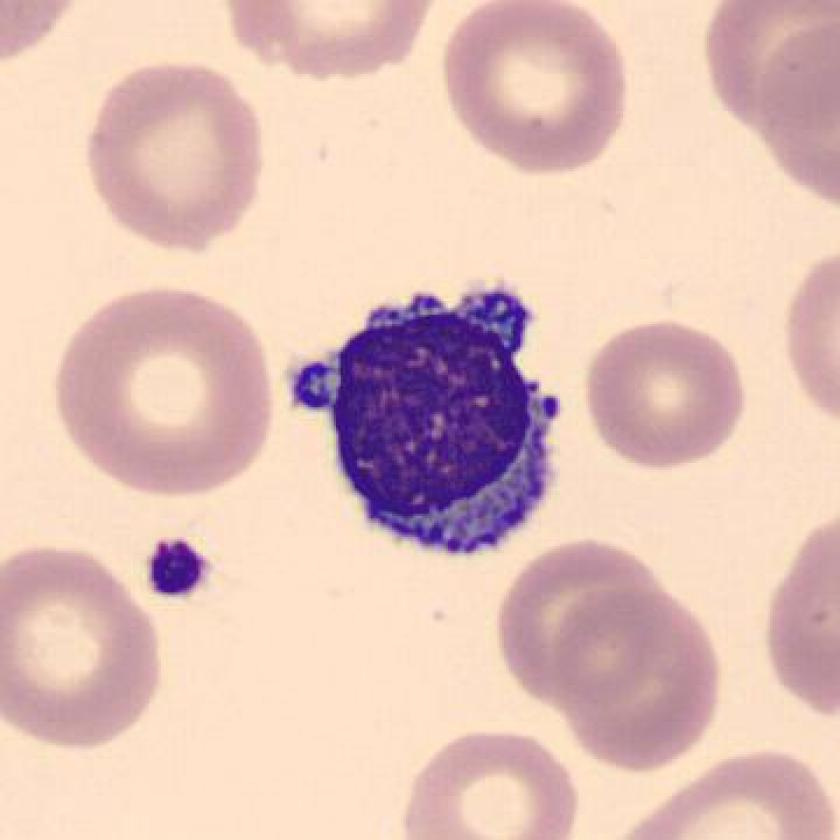lymphocyte: (276, 277, 580, 571)
